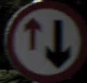Two way: (18, 6, 78, 75)
